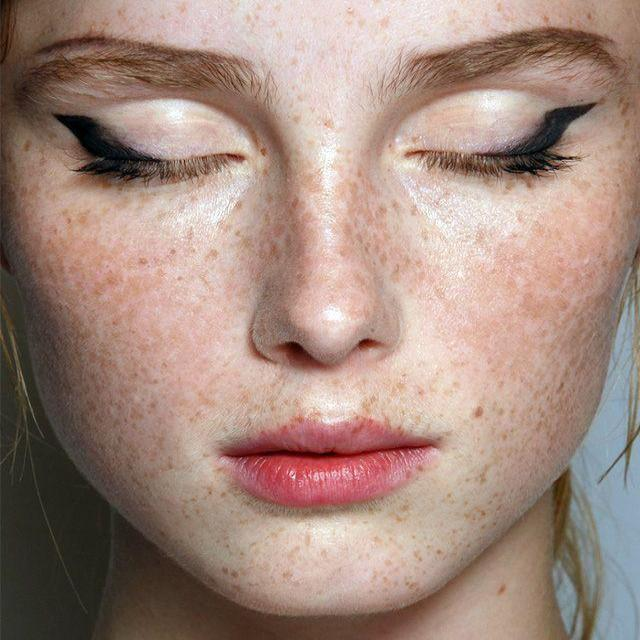freckle: (0, 156, 640, 533)
